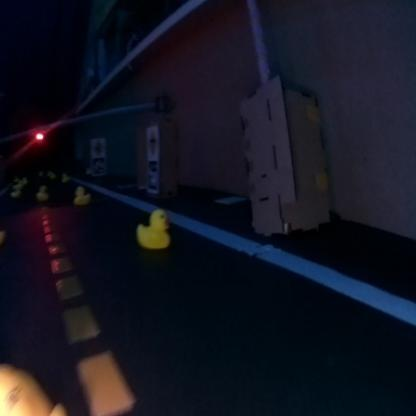duckie: (0, 347, 84, 415), (132, 199, 185, 253), (69, 176, 95, 212), (0, 211, 12, 255), (35, 180, 50, 208)
